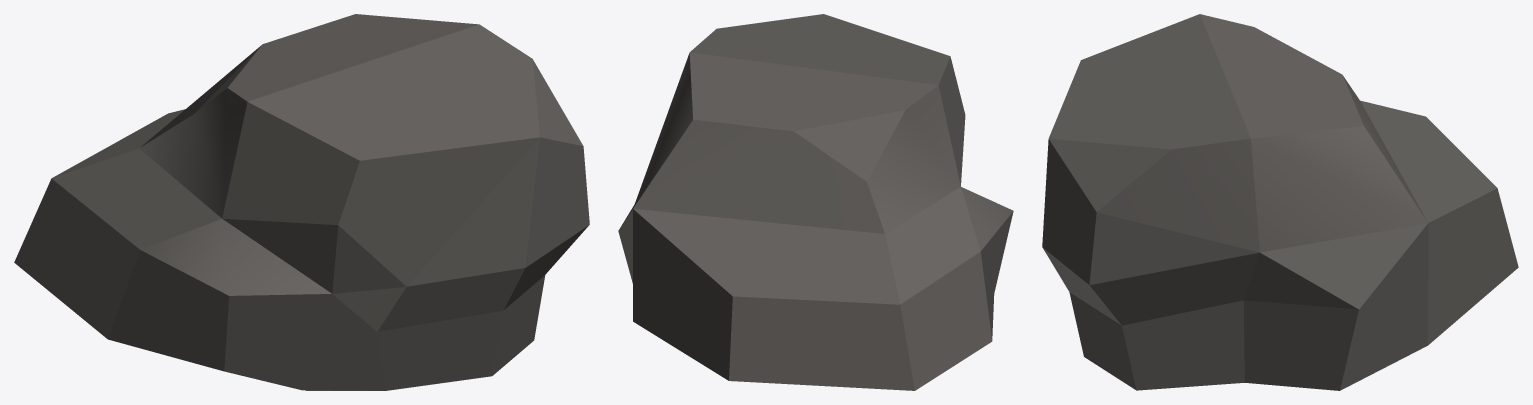
File: env_rocks.gltf
3 renders of one model, left to right at view 1: azimuth 30°, elevation 25°; view 2: azimuth 150°, elevation 25°; view 3: azimuth 270°, elevation 25°, orthographic. The views are drawn at different scales.
Visible parts, largest first — view 1: env_rocks; view 2: env_rocks; view 3: env_rocks.
Boxes of the visible parts, bbox=[...] form: env_rocks: bbox=[14, 14, 589, 390]; env_rocks: bbox=[618, 14, 1013, 390]; env_rocks: bbox=[1042, 14, 1518, 390].
Bounding box in the file's own units: 1.67 × 1.27 × 1.89.
1 material, 1 textured.
